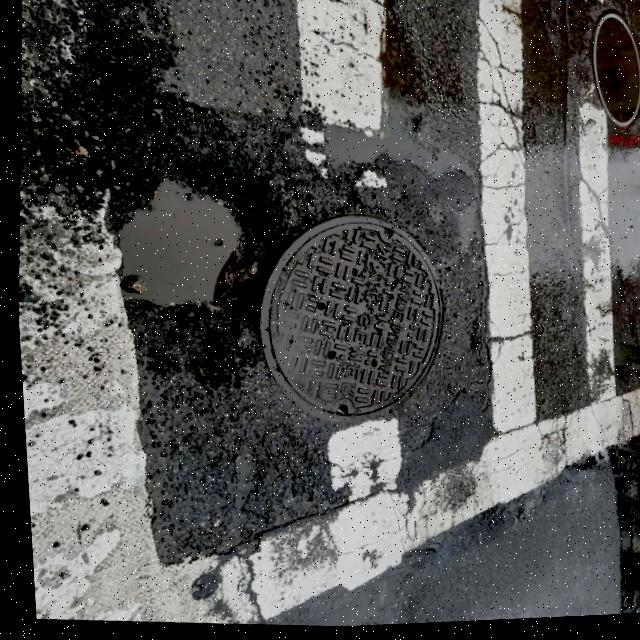pothole: (77, 139, 294, 359)
